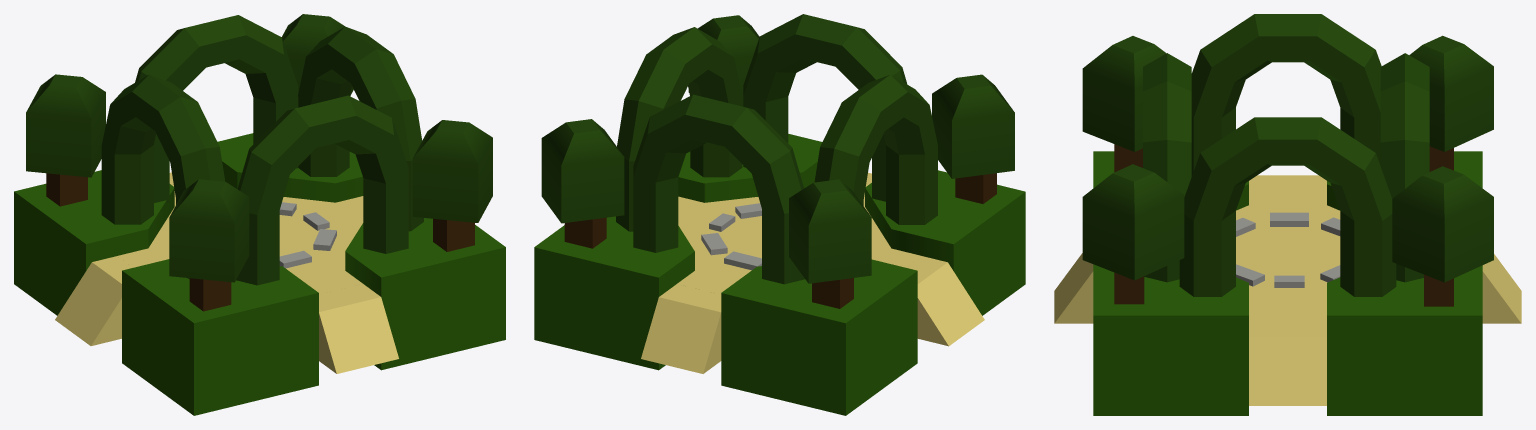
File: garden_fourway_special.fbx
3 renders of one model, left to right at view 1: azimuth 30°, elevation 25°; view 2: azimuth 150°, elevation 25°; view 3: azimuth 270°, elevation 25°, orthographic. The views are drawn at different scales.
Parts seen in each view (by area): view 1: polySurface558; view 2: polySurface558; view 3: polySurface558.
Boxes of the visible parts, bbox=[...] form: polySurface558: bbox=[14, 14, 505, 415]; polySurface558: bbox=[534, 14, 1025, 415]; polySurface558: bbox=[1054, 14, 1521, 415].
Bounding box in the file's own units: 120 × 76.45 × 120.
1 material, 1 textured.
